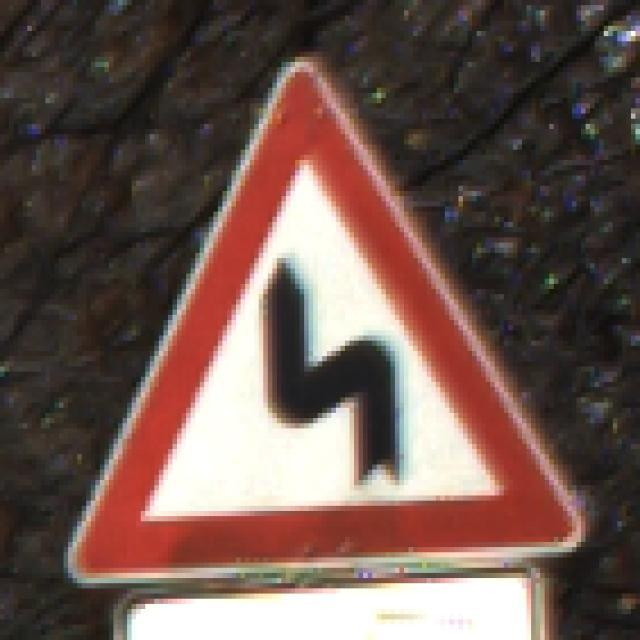left reverse bend: (64, 59, 583, 576)
